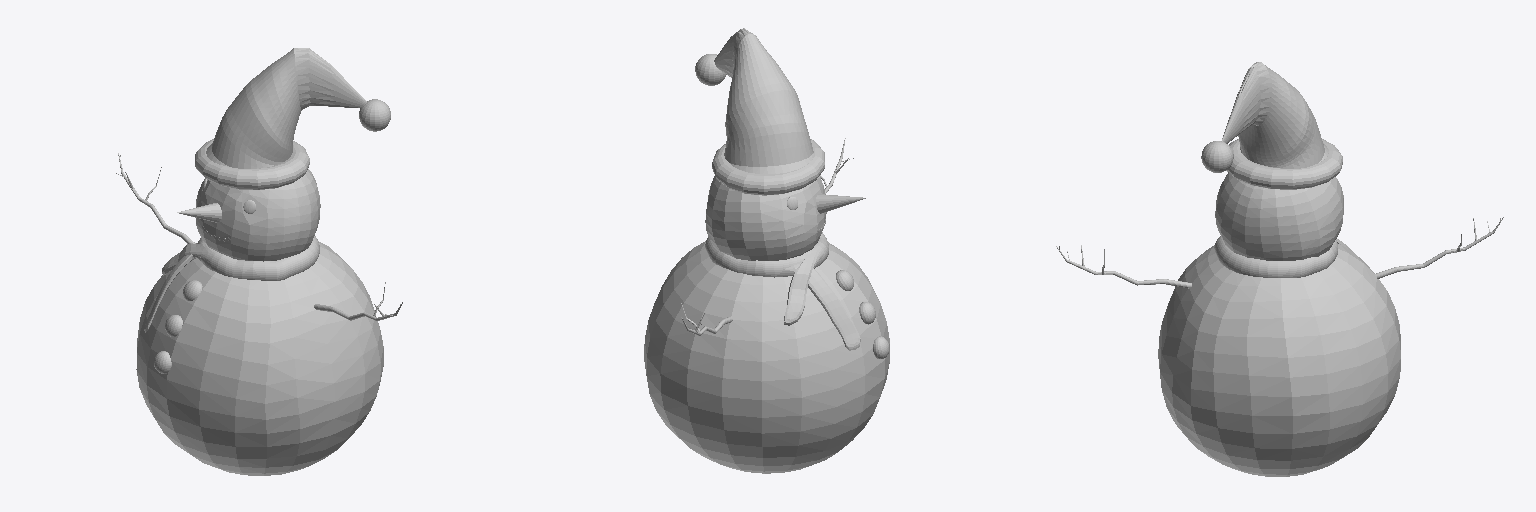
Rendered from snowman.obj.
The picture shows the model from 3 angles: view 1: azimuth 30°, elevation 25°; view 2: azimuth 150°, elevation 25°; view 3: azimuth 270°, elevation 25°; orthographic projection.
Parts seen in each view (by area): view 1: snowman; view 2: snowman; view 3: snowman.
Part boxes in pixels (left/top/right/bottom): snowman: left=116, top=48, right=402, bottom=475; snowman: left=644, top=28, right=889, bottom=473; snowman: left=1056, top=62, right=1503, bottom=476.
Size of the model in its own units: 0.4961 by 0.8967 by 0.8757.